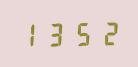five: (68, 20, 92, 46)
one: (18, 20, 42, 47)
three: (43, 20, 67, 47)
two: (93, 19, 117, 46)
